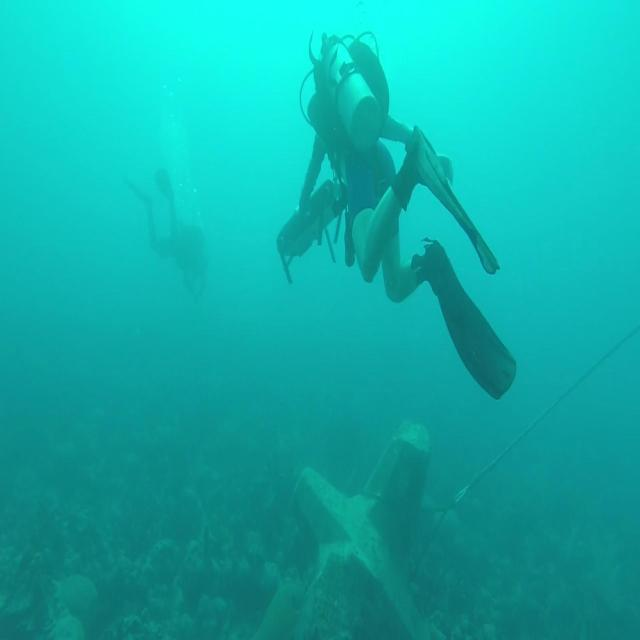human: (276, 28, 517, 400), (124, 165, 208, 298)
